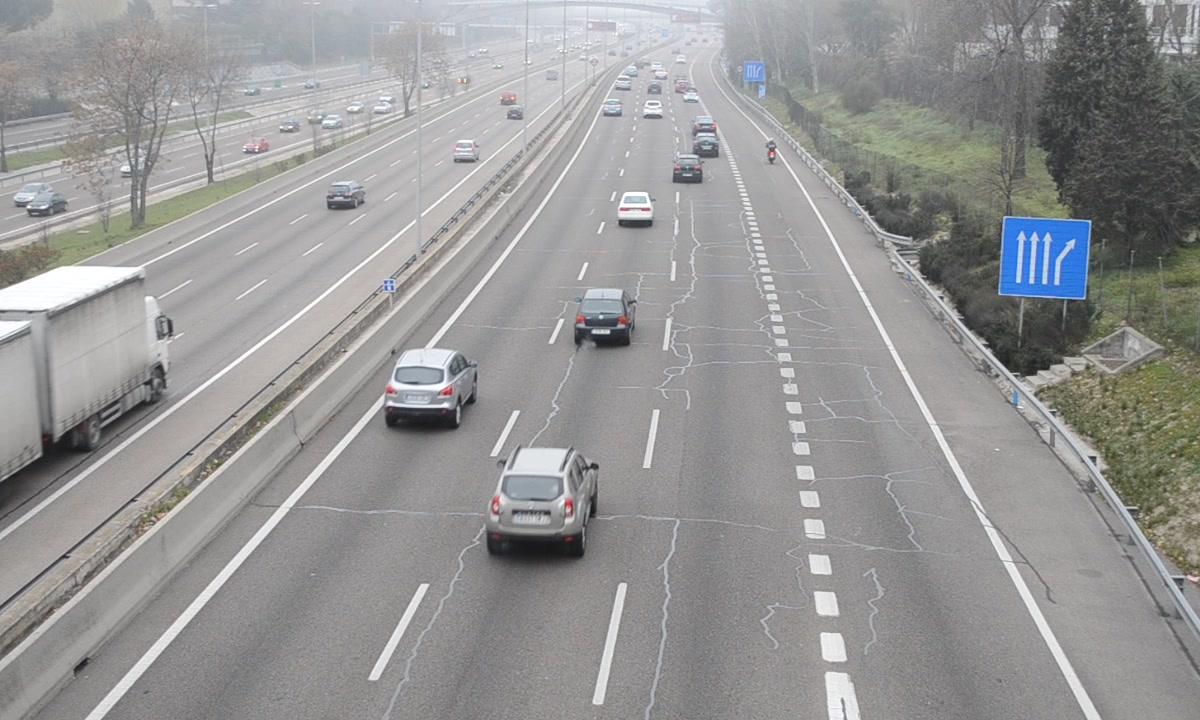car: (487, 447, 598, 540), (387, 348, 477, 412), (574, 288, 634, 343), (618, 190, 654, 224), (672, 154, 703, 184), (694, 132, 722, 157)
motorcycle: (766, 139, 779, 166)
